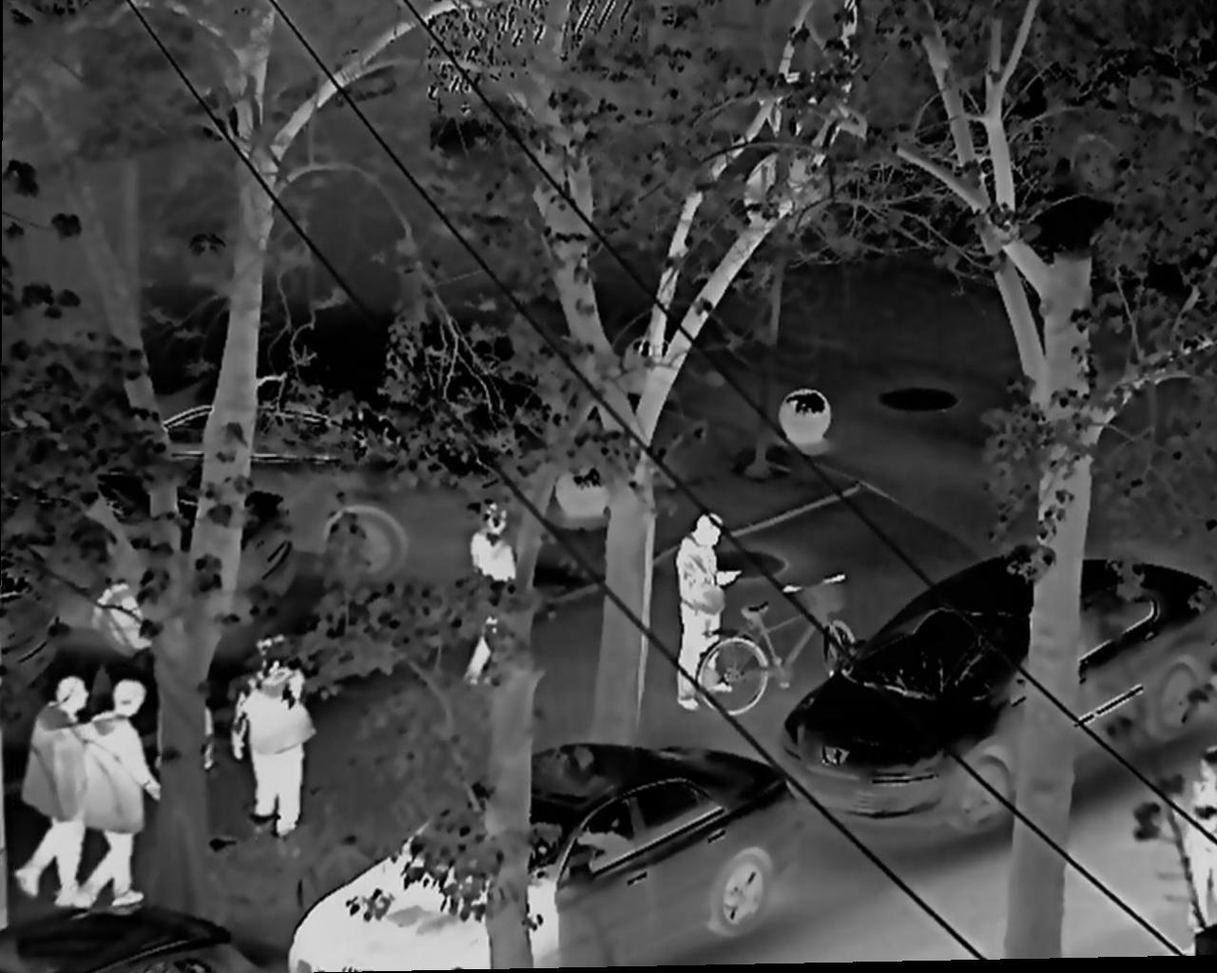person: (74, 679, 161, 906), (13, 676, 88, 906), (232, 672, 314, 836), (676, 512, 739, 710), (463, 503, 519, 692)
